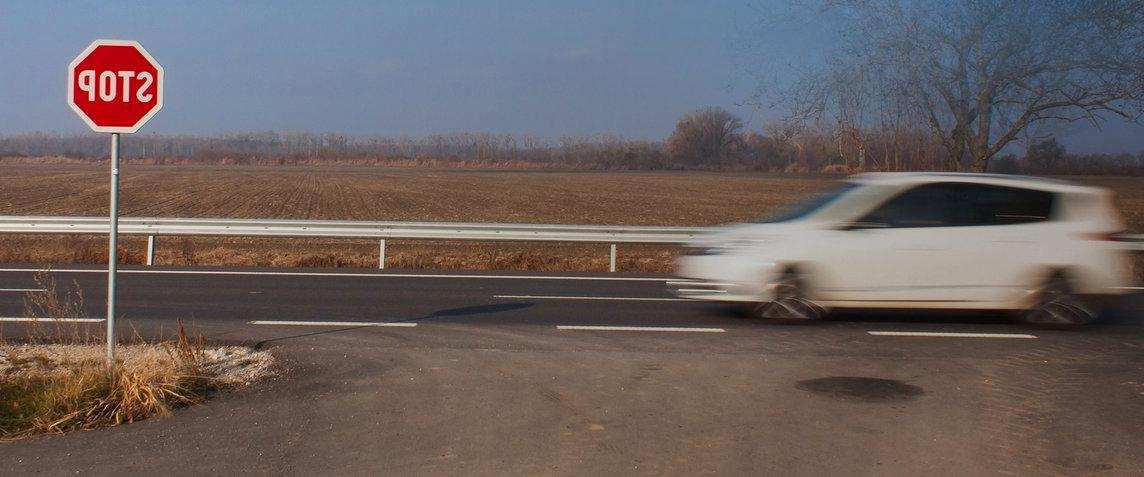Stop: (72, 40, 161, 129)
